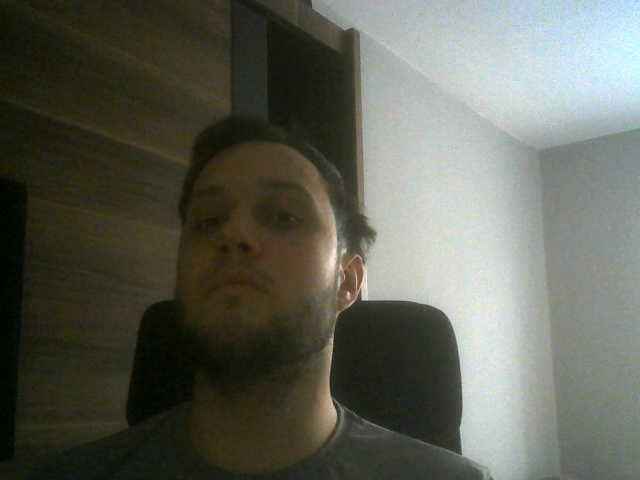neutral: (175, 115, 364, 371)
